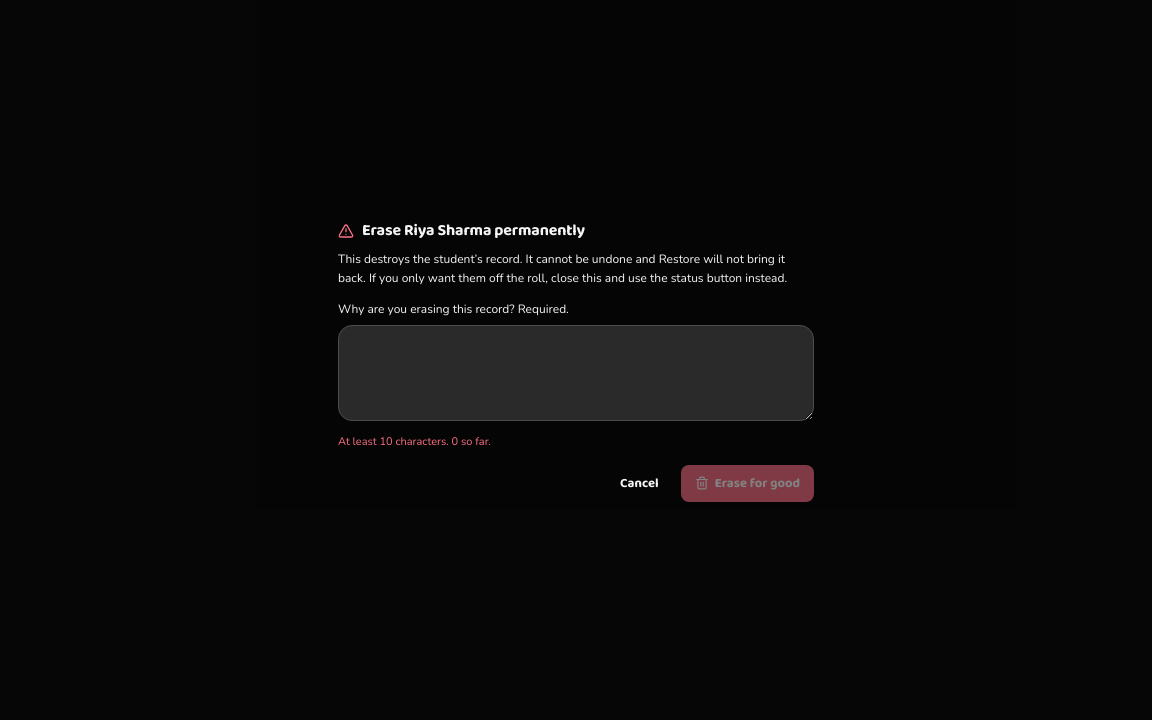
Scenario: erasing a record for good › keeps the button out of reach until the reason is long enough
The width and height of the screenshot is (1152, 720).
Later steps or results of the test are not shown.
Expected: the button with test id "erase-confirm" is disabled, [681, 465, 814, 502]
Type "x" into the text box with test id "erase-reason" at (576, 373), box [338, 325, 814, 421]
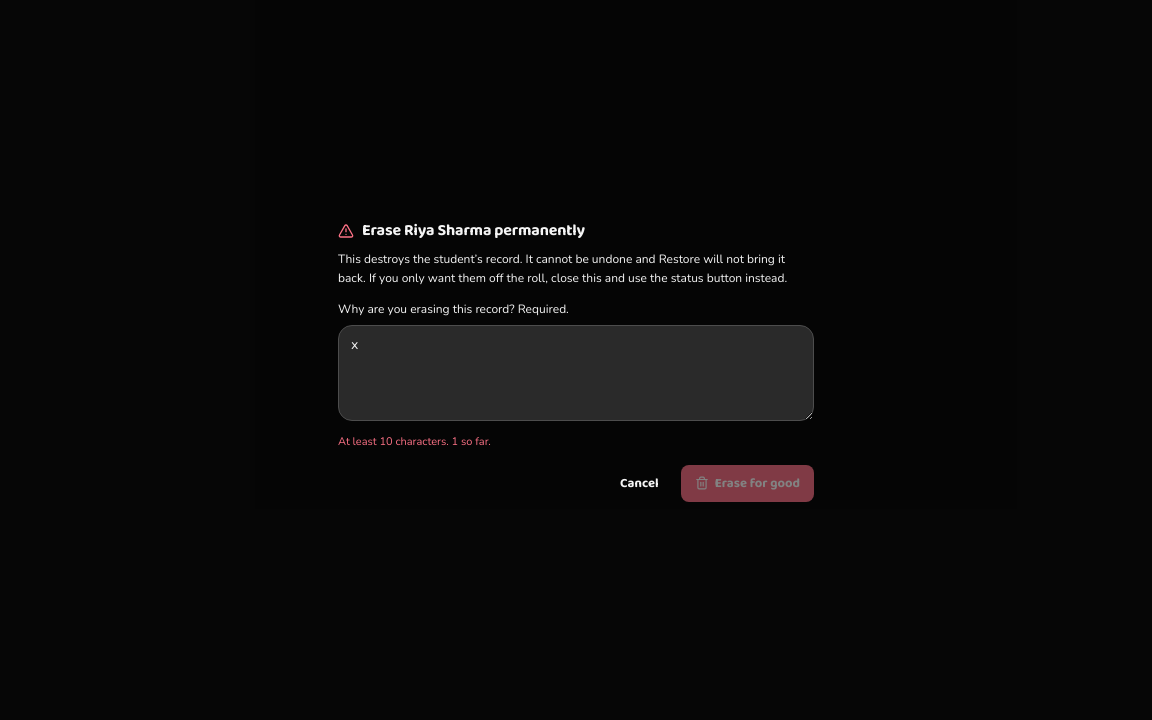
Expected: the button with test id "erase-confirm" is disabled, [681, 465, 814, 502]
Replace the text in the text box with test id "erase-reason" with "Duplicate record from the import" at (576, 373), box [338, 325, 814, 421]
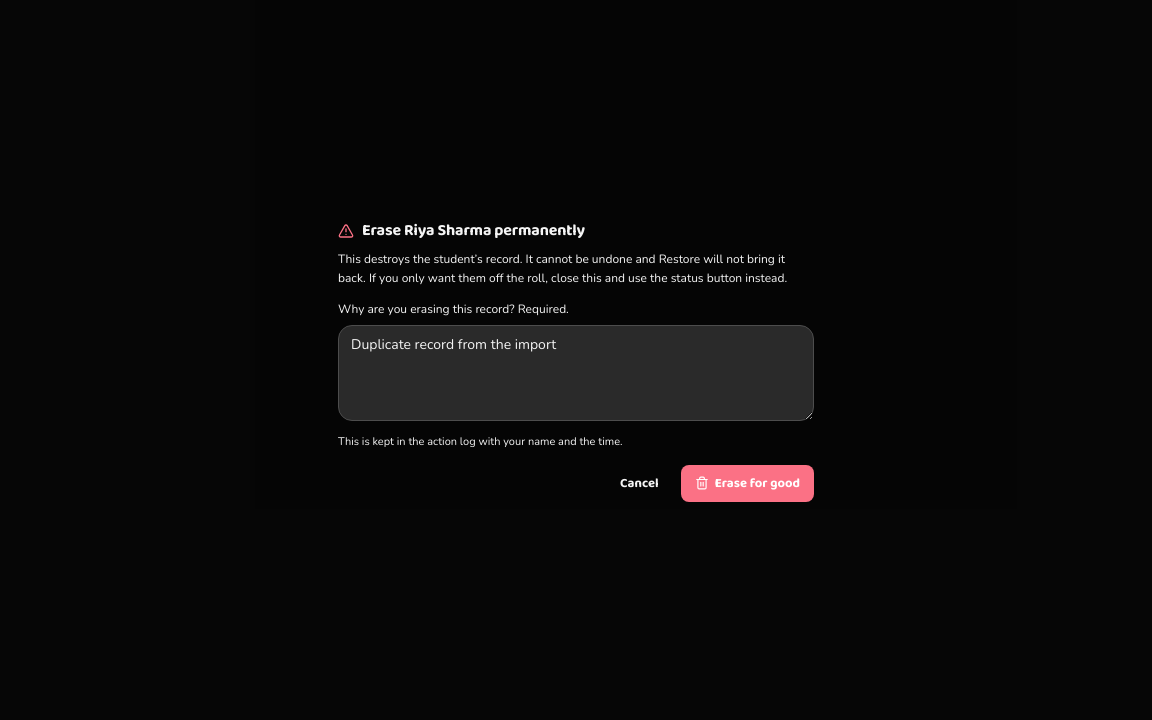
Expected: the button with test id "erase-confirm" is enabled, [681, 465, 814, 502]
